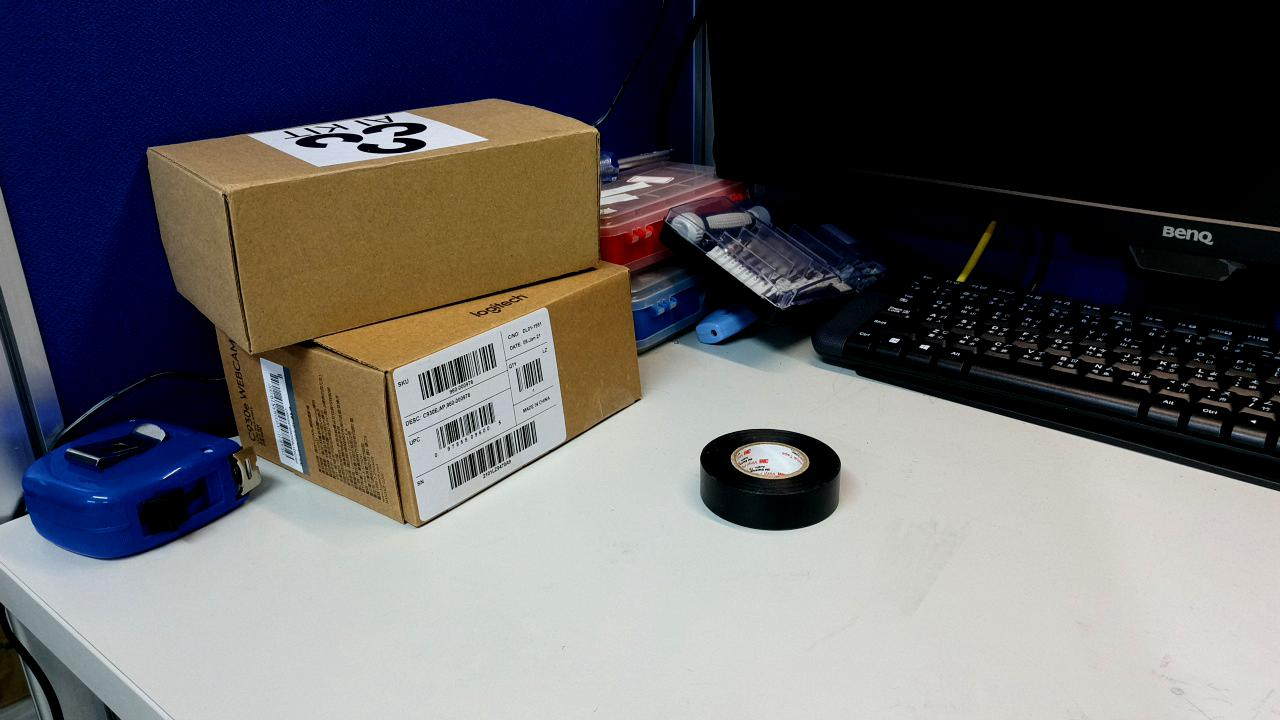columnar: (1013, 294, 1256, 579)
grip: (938, 345, 1044, 504)
